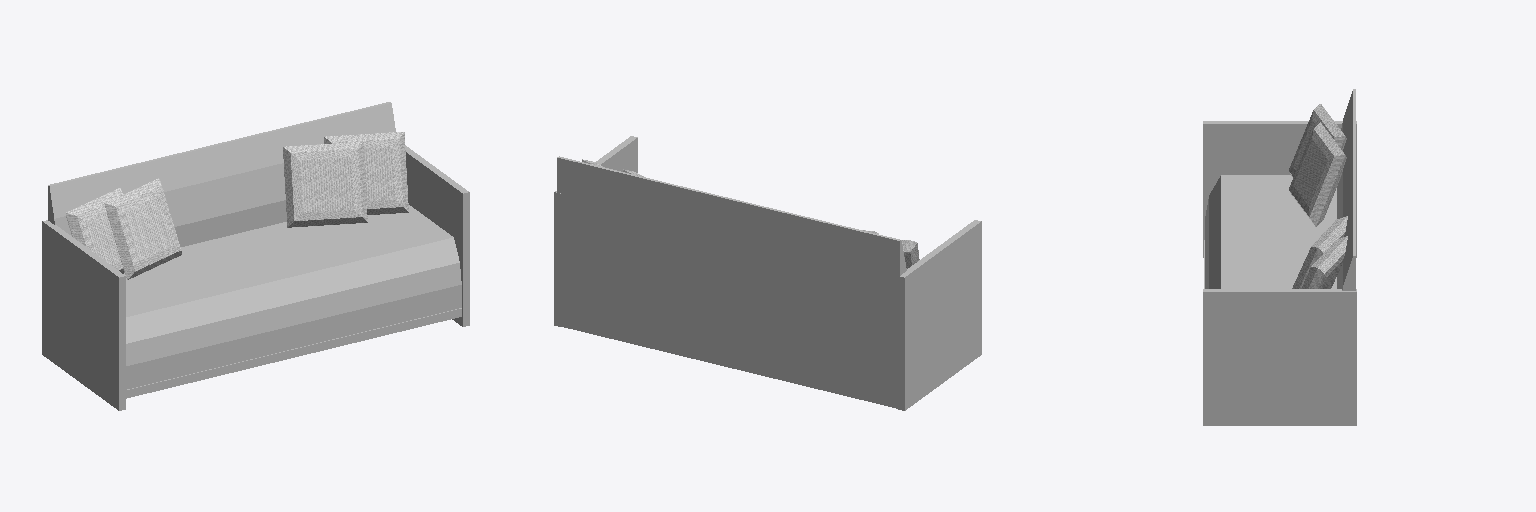
3 views of the same model, side by side, from view 1: azimuth 30°, elevation 25°; view 2: azimuth 150°, elevation 25°; view 3: azimuth 270°, elevation 25° (orthographic).
Visible parts, largest first — view 1: Cube_Cube.002, Cube.004_Cube.006, Cube.002_Cube.004, Cube.003_Cube.005, Cube.001_Cube.003; view 2: Cube_Cube.002; view 3: Cube_Cube.002, Cube.002_Cube.004, Cube.003_Cube.005, Cube.001_Cube.003, Cube.004_Cube.006.
Part boxes in pixels (x1,y1,x2,y2): Cube_Cube.002: (42,102,469,410); Cube.004_Cube.006: (283,142,367,227); Cube.002_Cube.004: (104,178,181,279); Cube.003_Cube.005: (324,132,408,214); Cube.001_Cube.003: (66,188,123,273); Cube_Cube.002: (554,136,981,410); Cube_Cube.002: (1203,89,1356,425); Cube.002_Cube.004: (1289,122,1346,226); Cube.003_Cube.005: (1301,236,1347,288); Cube.001_Cube.003: (1289,104,1346,176); Cube.004_Cube.006: (1292,216,1347,288).
Bounding box in the file's own units: 4.36 × 2.01 × 1.66.
Materials: 3 (1 with a texture image).